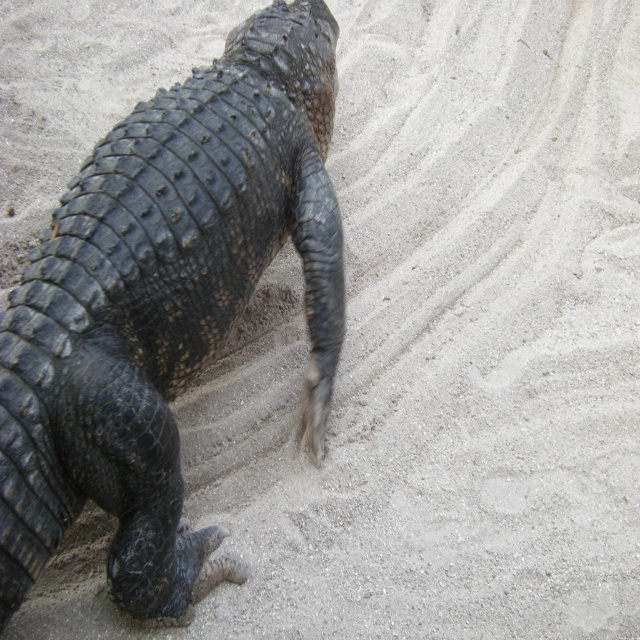Crocodile: (0, 0, 346, 638)
